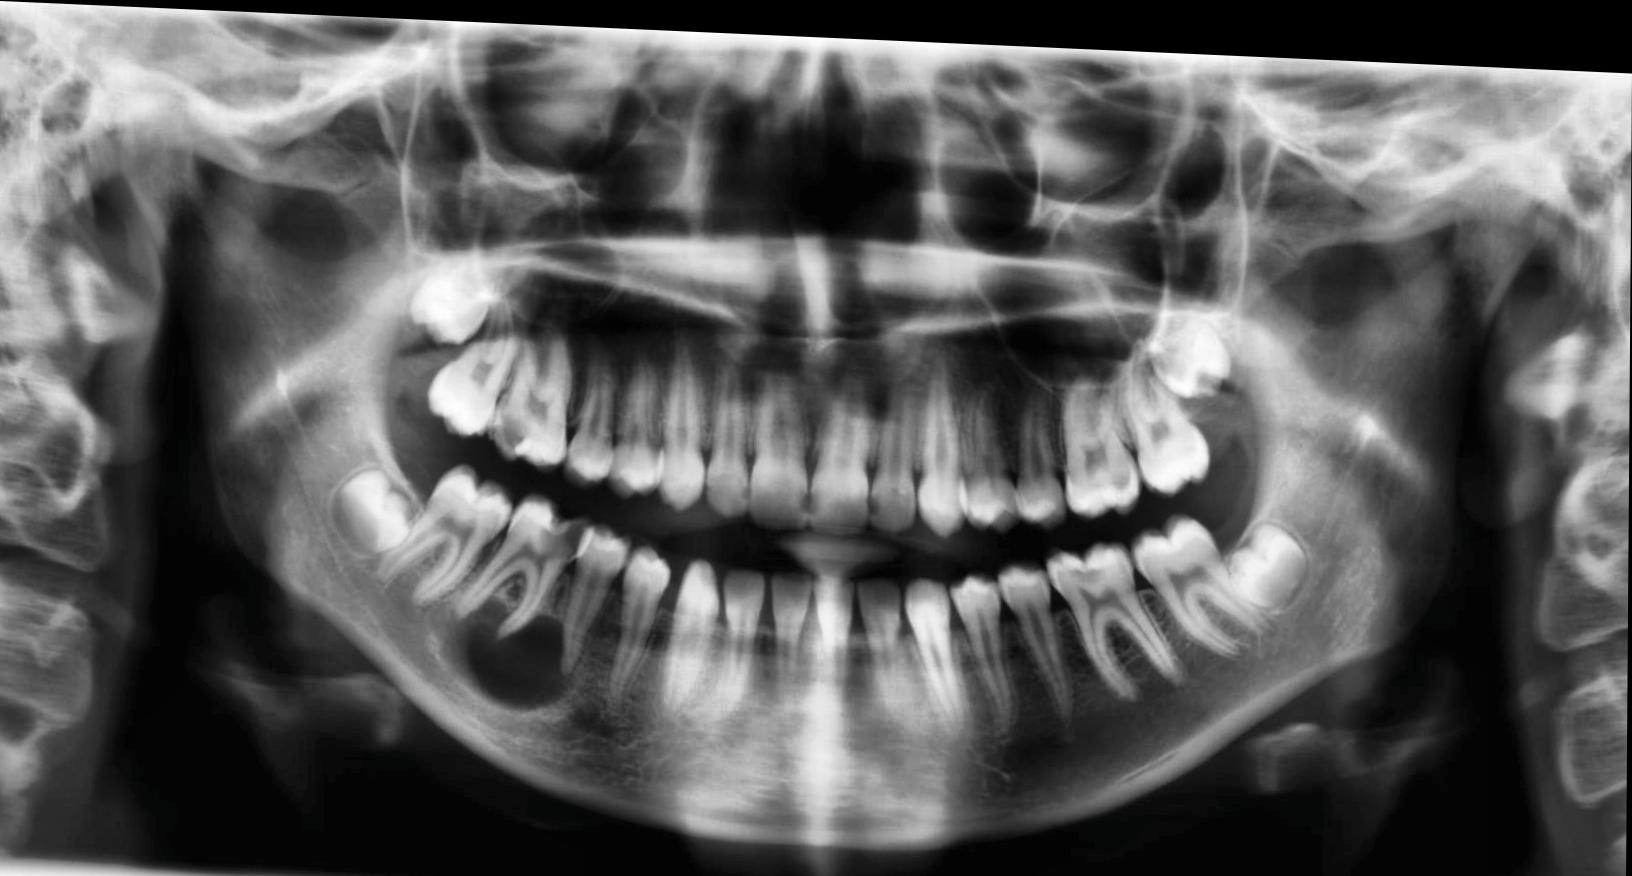radicular: (423, 586, 593, 712)
